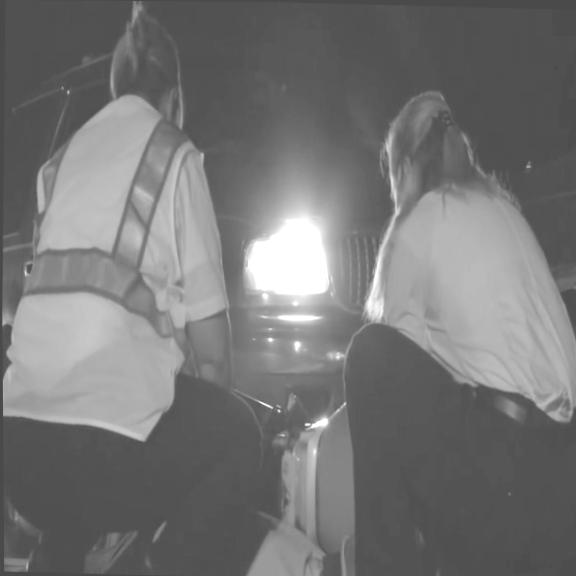safety_vest: (1, 90, 210, 438)
